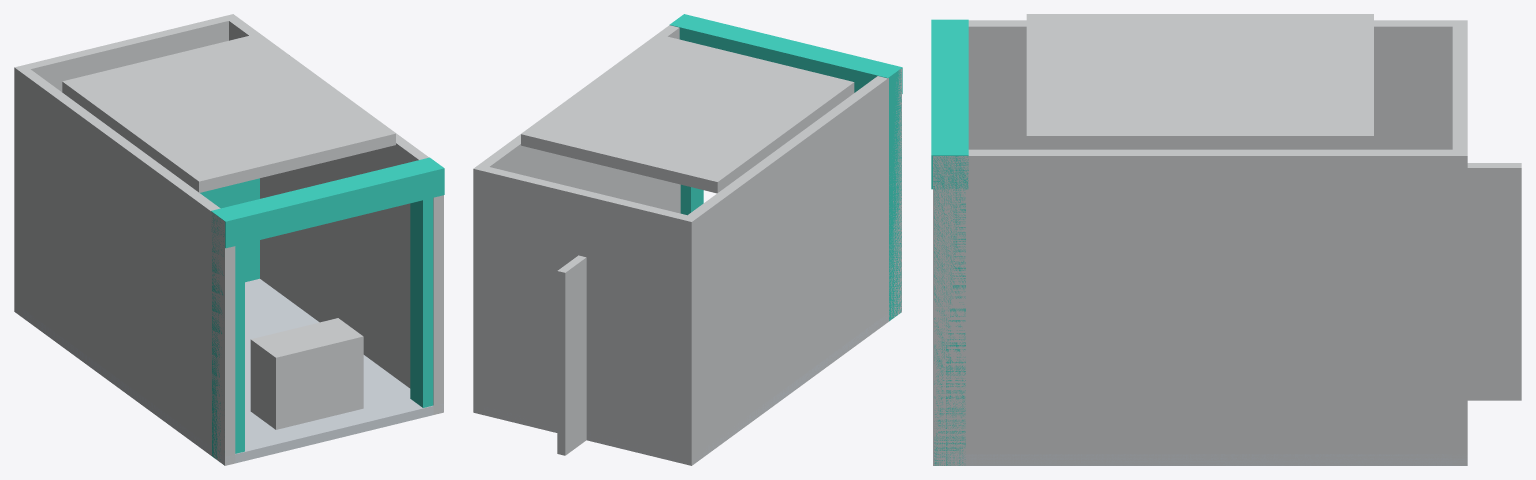
The picture shows the model from 3 angles, left to right: view 1: azimuth 30°, elevation 25°; view 2: azimuth 150°, elevation 25°; view 3: azimuth 270°, elevation 25°; orthographic projection. The views are drawn at different scales.
Visible parts, largest first — view 1: Exhibition Booth Concept; view 2: Exhibition Booth Concept; view 3: Exhibition Booth Concept.
Boxes of the visible parts, left/top/right/bottom form: Exhibition Booth Concept: left=14, top=14, right=444, bottom=465; Exhibition Booth Concept: left=473, top=14, right=902, bottom=465; Exhibition Booth Concept: left=931, top=14, right=1521, bottom=465.
Bounding box in the file's own units: 3 × 3.34 × 5.52.
